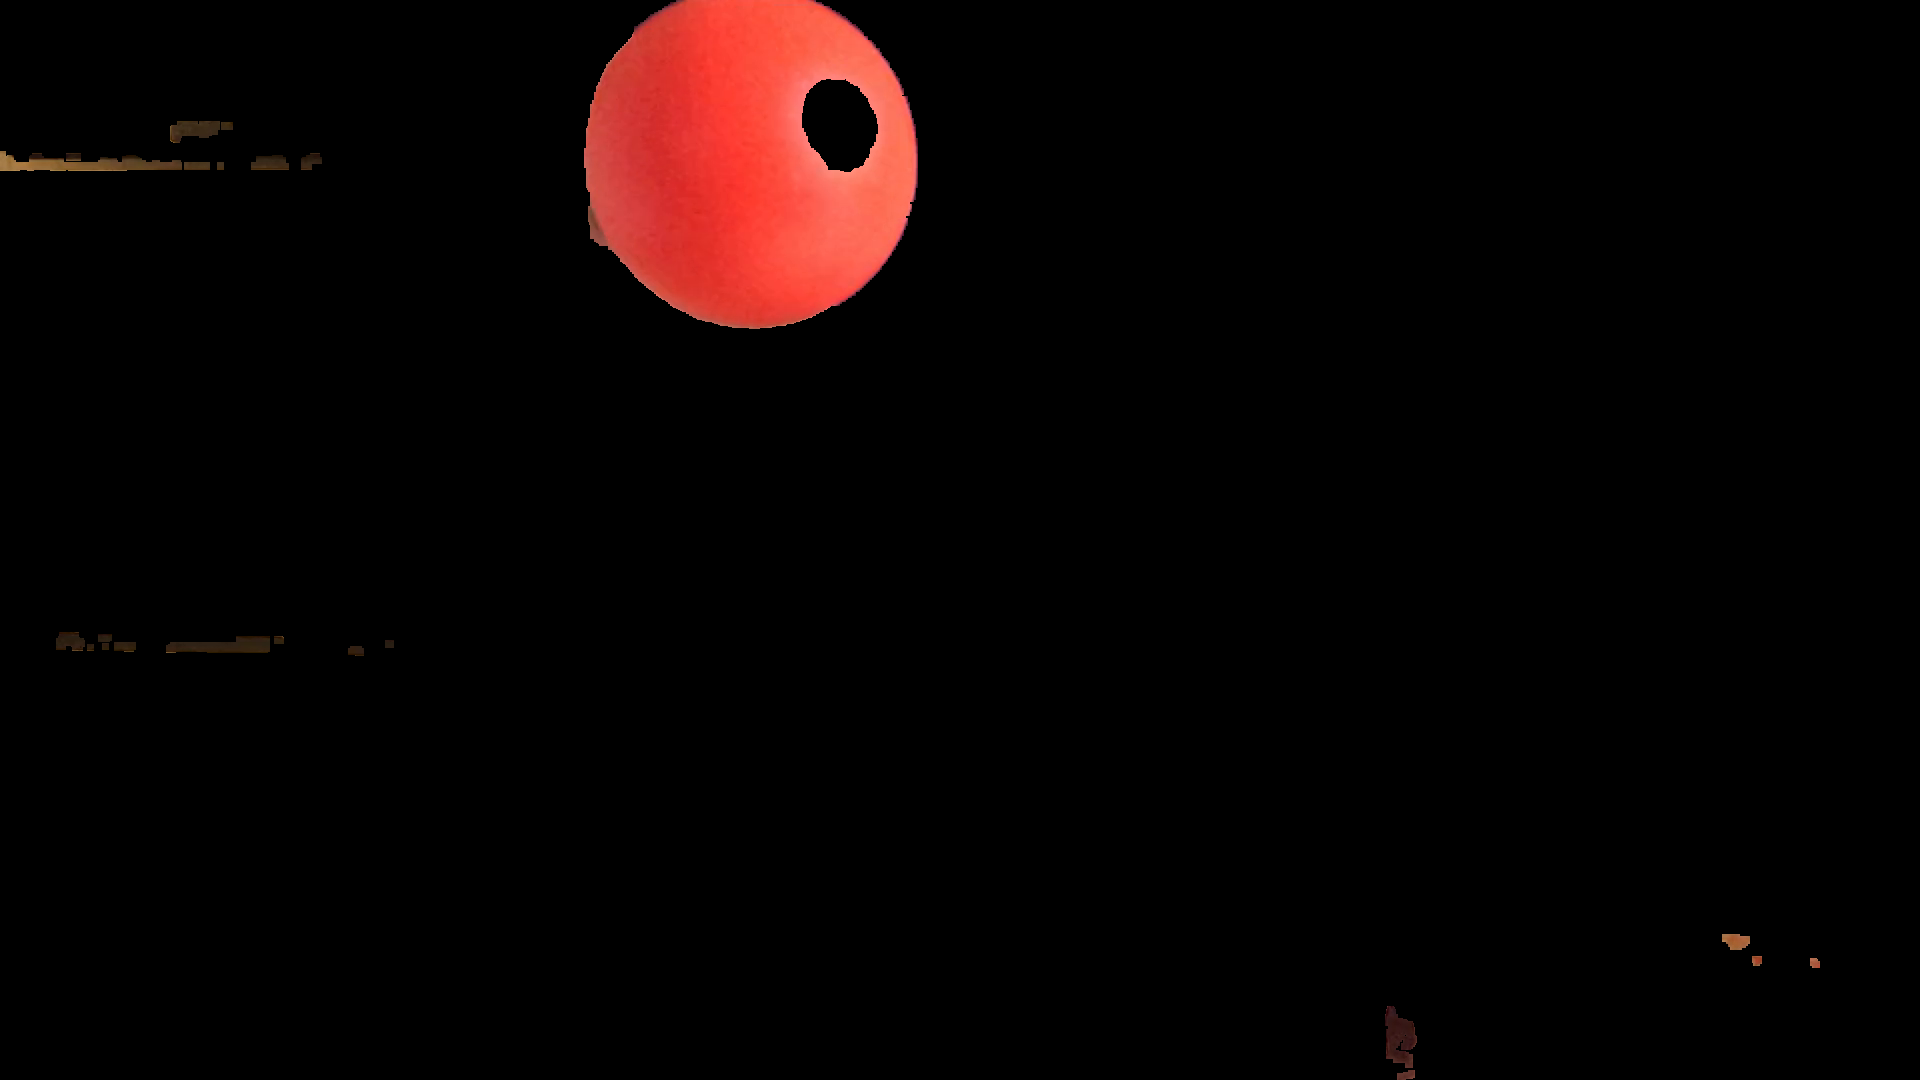Ball: (585, 1, 918, 328)
